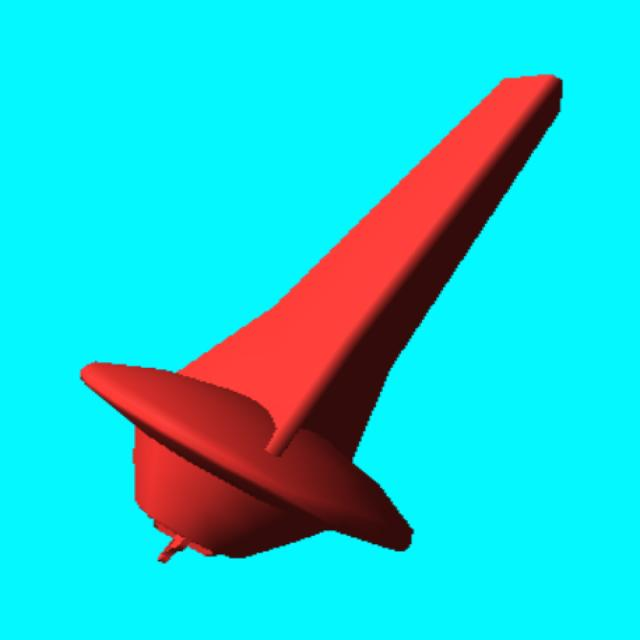RedBuoy: (81, 76, 561, 561)
